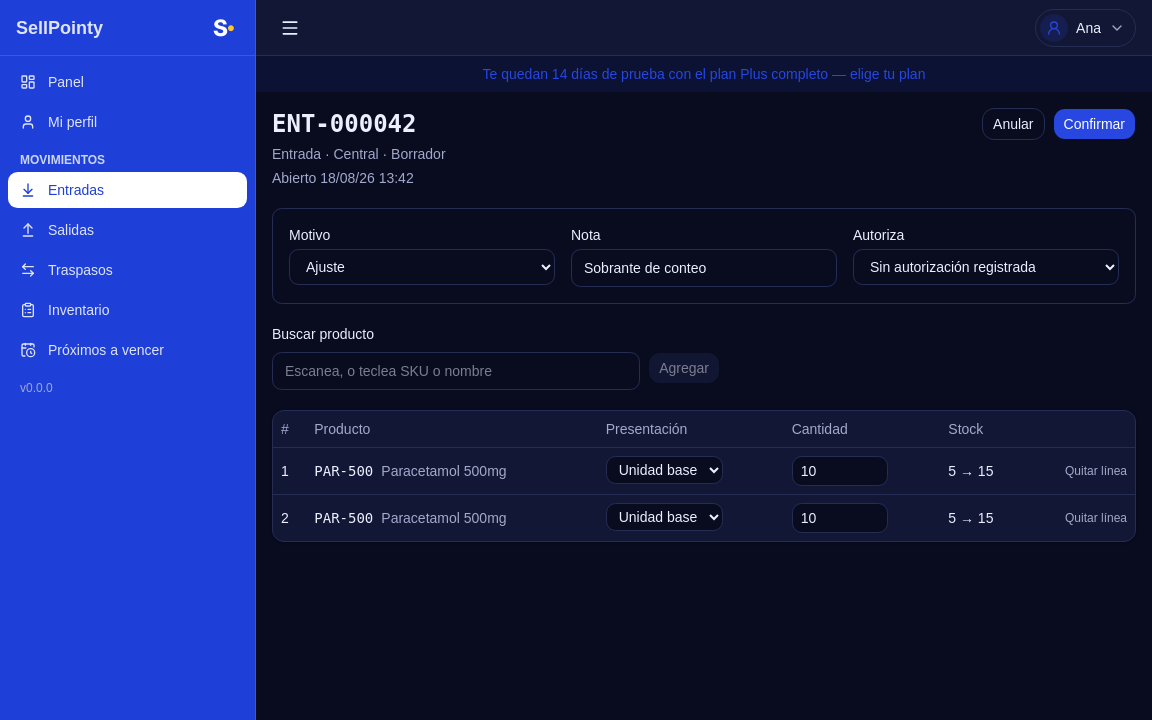
it: el diálogo de confirmar habla en plural o singular › con dos líneas: «Se registrarán 2 líneas»
What coordinates should you click on to do the following:
click the button "Confirmar"
I would click on:
 (1094, 124)
Its box is x1=1052 y1=108 x2=1136 y2=140.
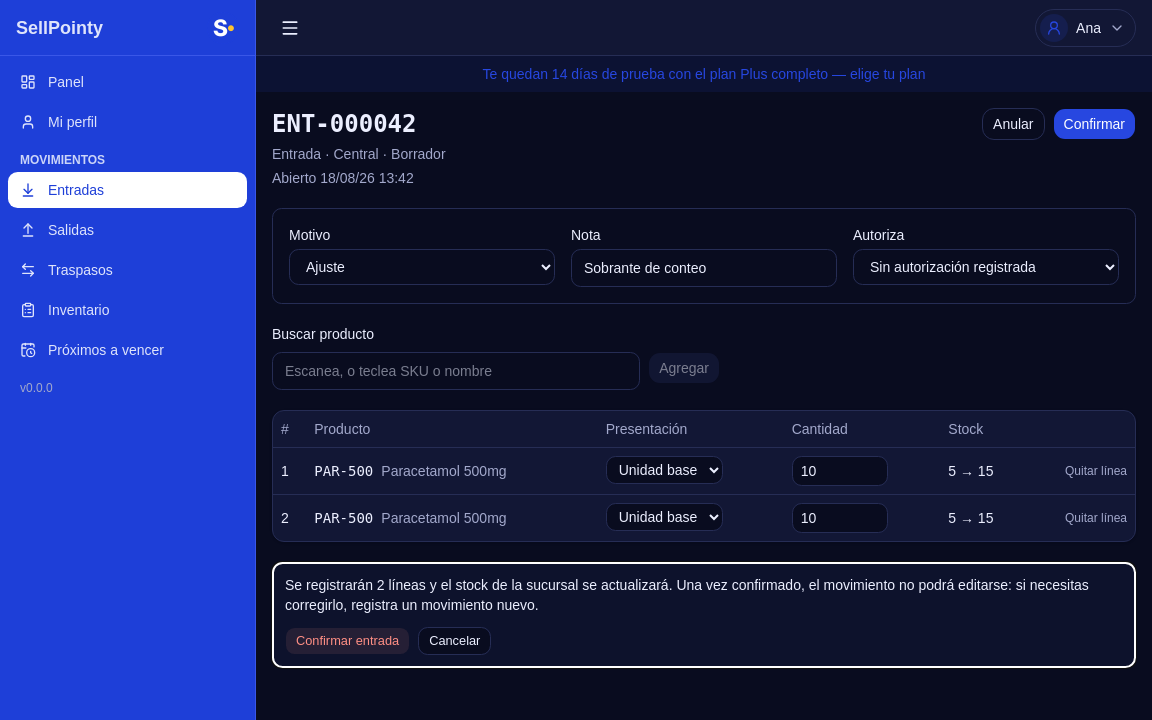
Check: the text "Se registrarán 2 líneas y el stock" is shown, box x1=285 y1=577 x2=1089 y2=613
